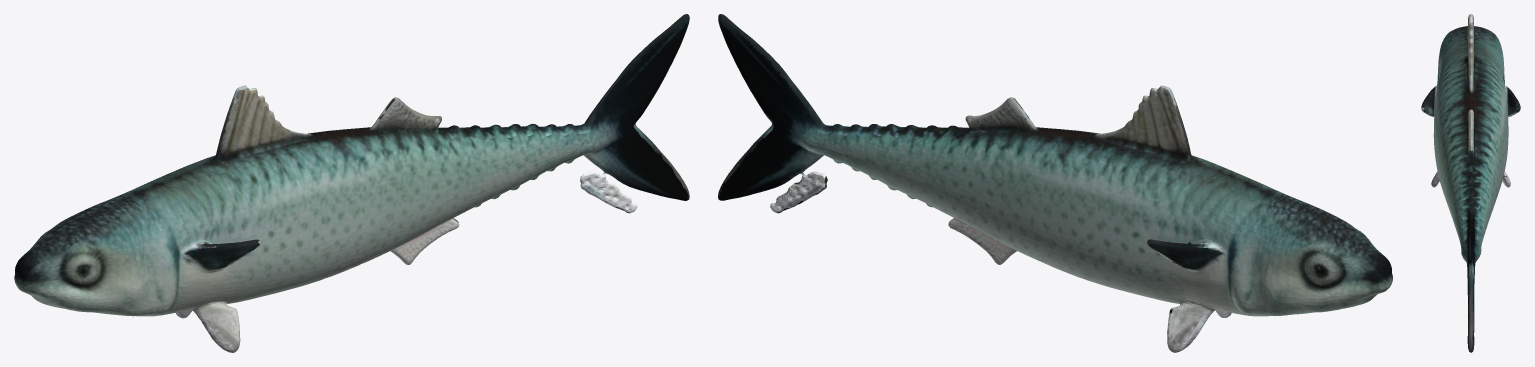
File: paint_mesh_Mackeral.glb
3 views of the same model, side by side, from view 1: azimuth 30°, elevation 25°; view 2: azimuth 150°, elevation 25°; view 3: azimuth 270°, elevation 25° (orthographic). The views are drawn at different scales.
Parts seen in each view (by area): view 1: world; view 2: world; view 3: world.
Part boxes in pixels (x1=…): world: x1=14, y1=14, x2=689, y2=352; world: x1=718, y1=14, x2=1392, y2=352; world: x1=1421, y1=14, x2=1520, y2=352.
Size of the model in its own units: 1.99 by 0.6826 by 0.3321.
Materials: 1 (1 with a texture image).
